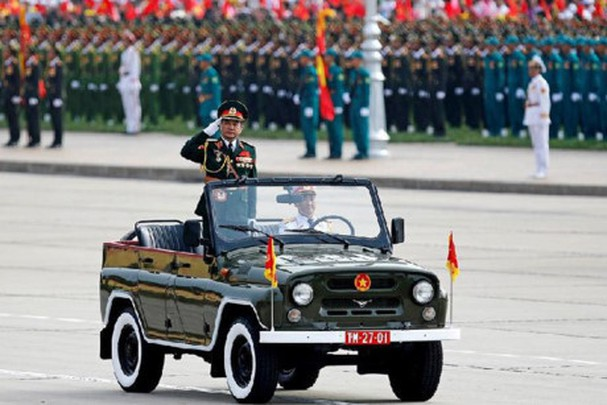plate: (345, 329, 390, 346)
